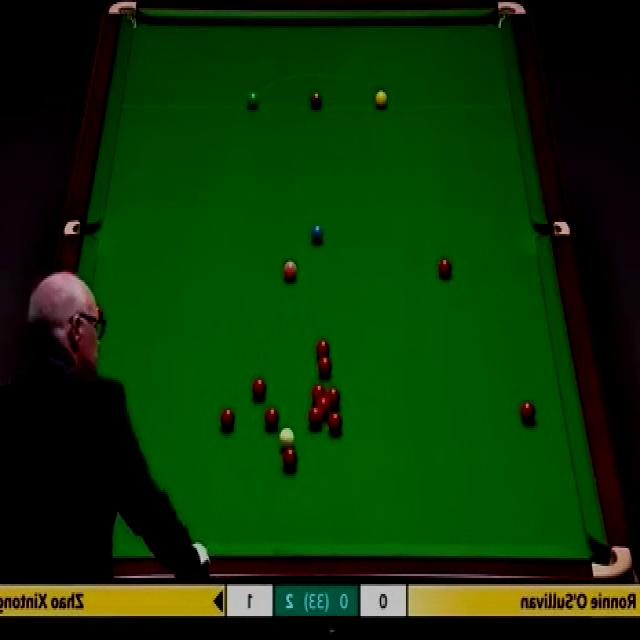blue-ball: (310, 222, 325, 245)
brown-ball: (310, 90, 323, 110)
green-ball: (247, 89, 260, 110)
pink-ball: (280, 260, 300, 288)
red-ball: (281, 447, 300, 474), (436, 258, 454, 281), (251, 376, 267, 401), (521, 400, 537, 424), (264, 407, 280, 431), (220, 408, 236, 432), (308, 408, 324, 430), (317, 357, 332, 378), (326, 390, 341, 410), (328, 412, 342, 433), (311, 384, 326, 403), (316, 342, 331, 361), (317, 398, 330, 416)
white-ball: (278, 428, 296, 454)
yellow-ball: (375, 90, 387, 110)
